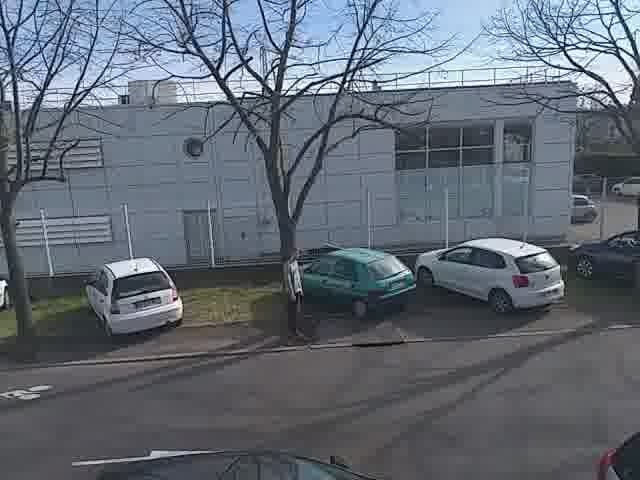persona: (275, 238, 310, 343)
